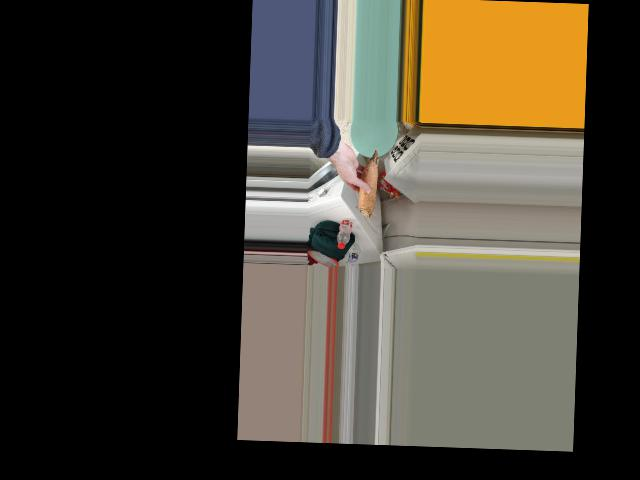sweet_potato: (353, 148, 380, 220)
